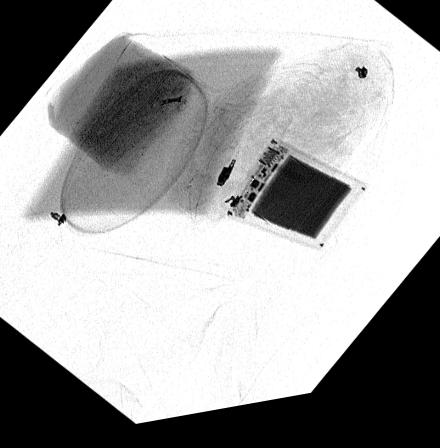Powerbank: (221, 147, 368, 264)
